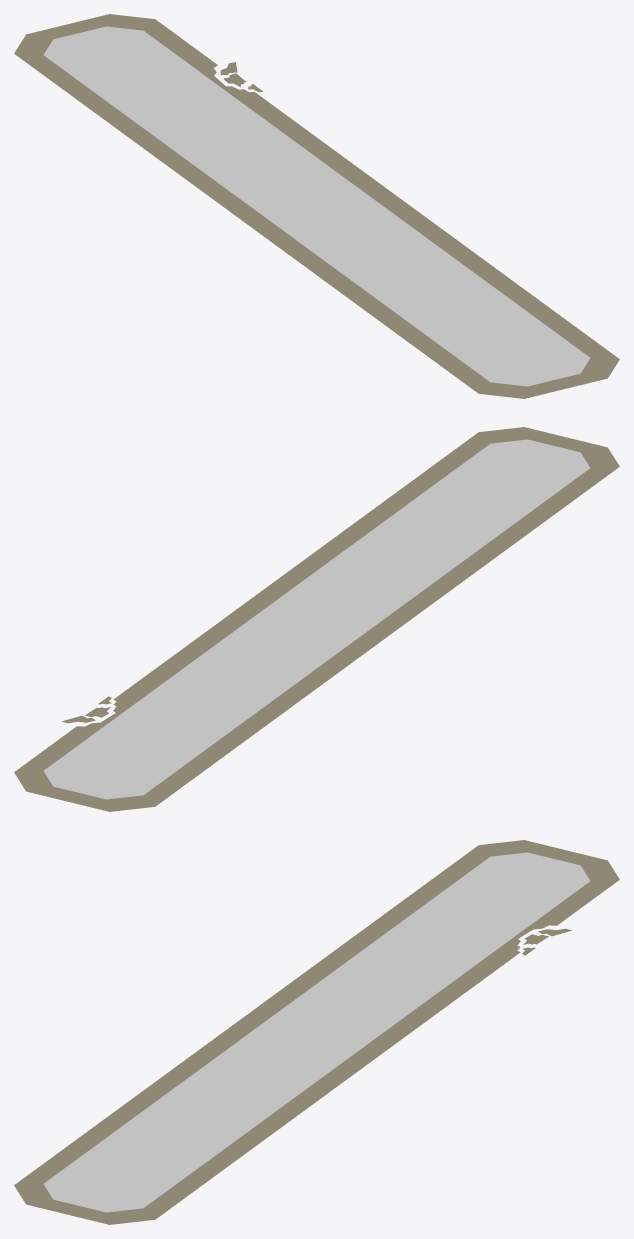
File: Ground5.fbx
3 views of the same model, one above another, from view 1: azimuth 30°, elevation 25°; view 2: azimuth 150°, elevation 25°; view 3: azimuth 330°, elevation 25° (orthographic).
Visible parts, largest first — view 1: Ground5; view 2: Ground5; view 3: Ground5.
Part boxes in pixels (<box>): Ground5: <box>14,14,619,398</box>; Ground5: <box>14,427,619,811</box>; Ground5: <box>14,840,619,1224</box>.
Bounding box in the file's own units: 2.71 × 0 × 14.83.
